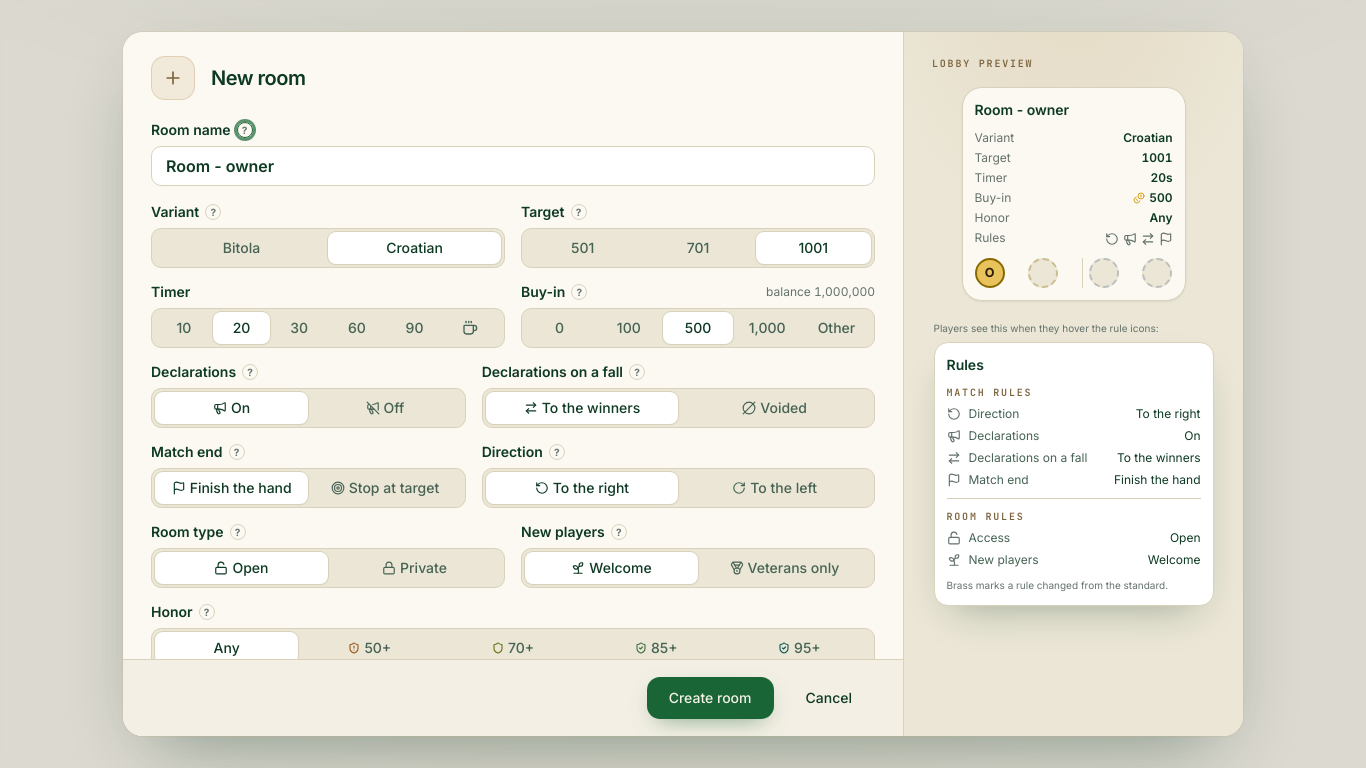
Test: CreateRoomModal name › shows ROOM_NAME_TAKEN under the name
The image size is (1366, 768).
Type "Taken Name" into the field with test id "room-name-input".
click(513, 166); type("Taken Name")  # box [151,146,875,186]
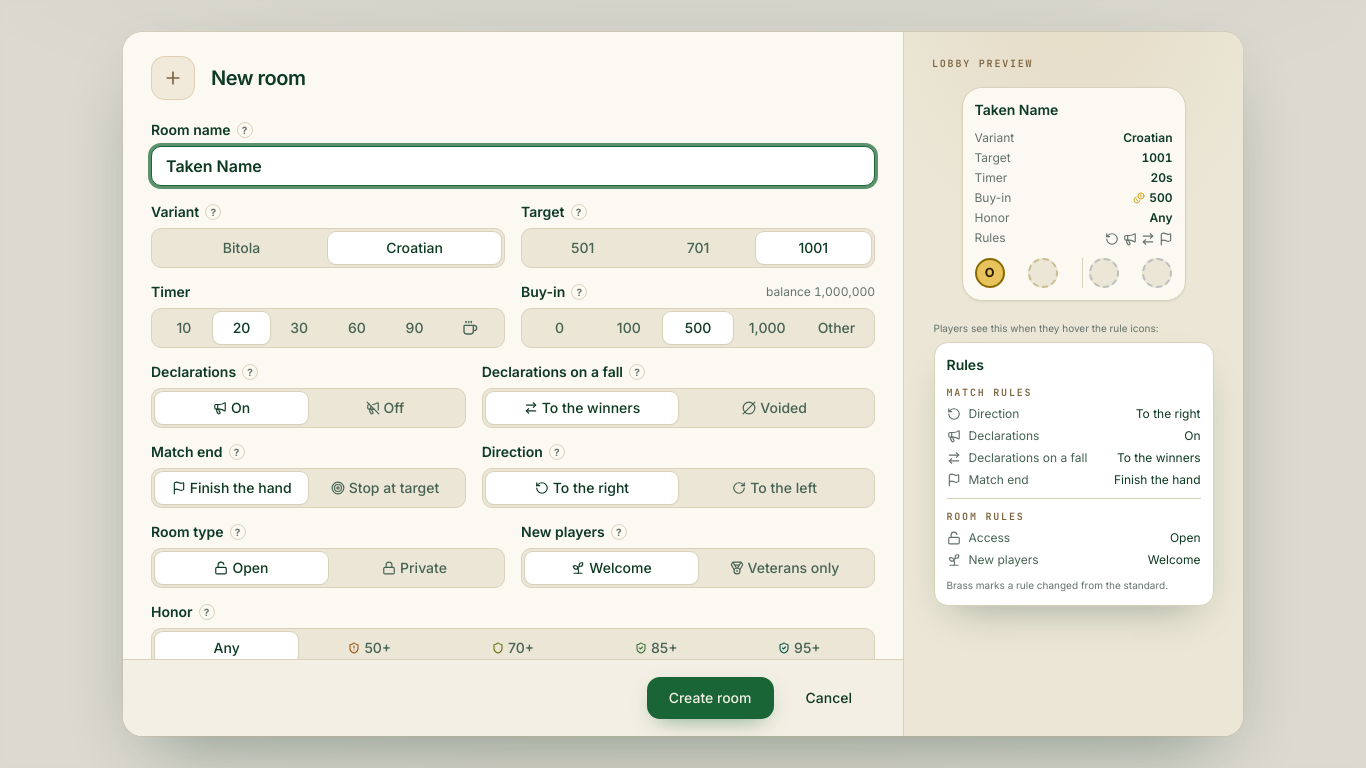
Click the button with test id "create-room-button".
click(710, 698)  # box [646,676,774,720]
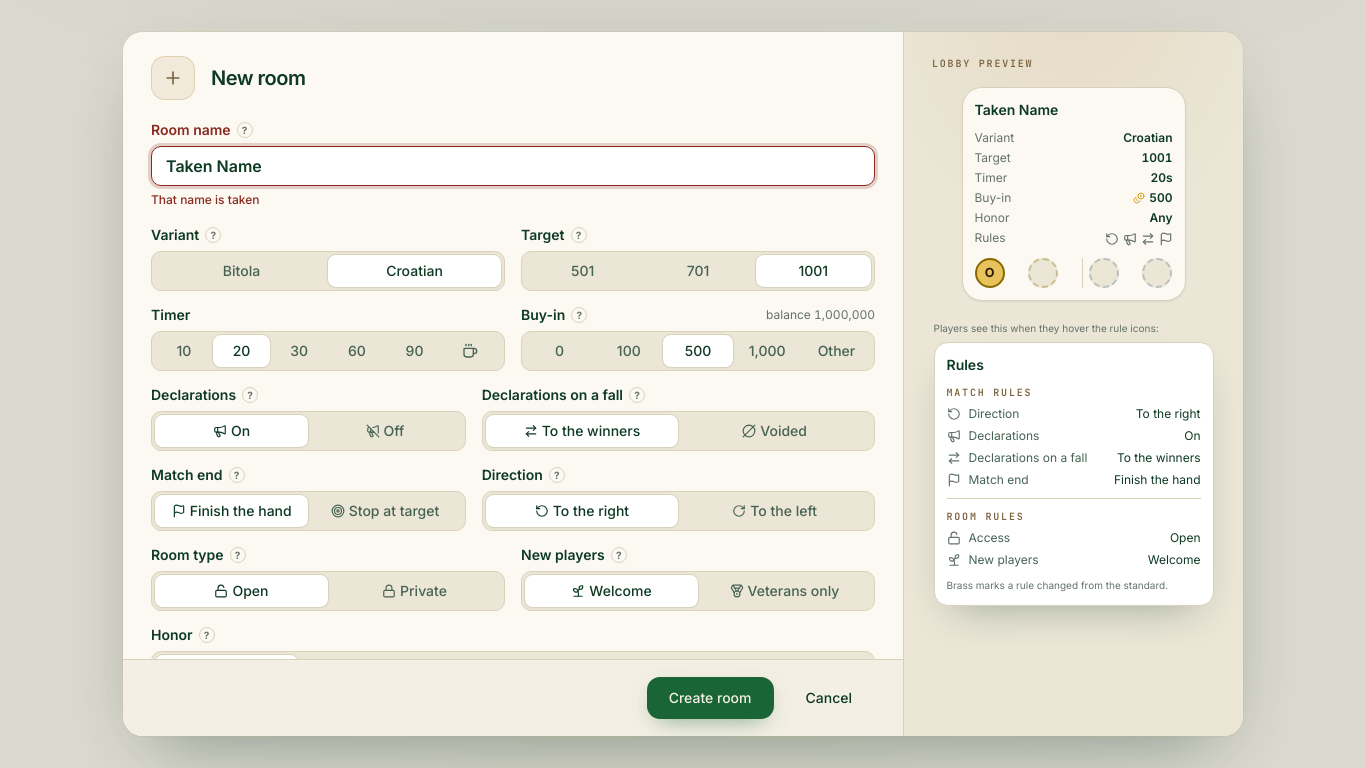
Now the text with test id "room-name-error" reads "That name is taken", box [151,192,260,207]
